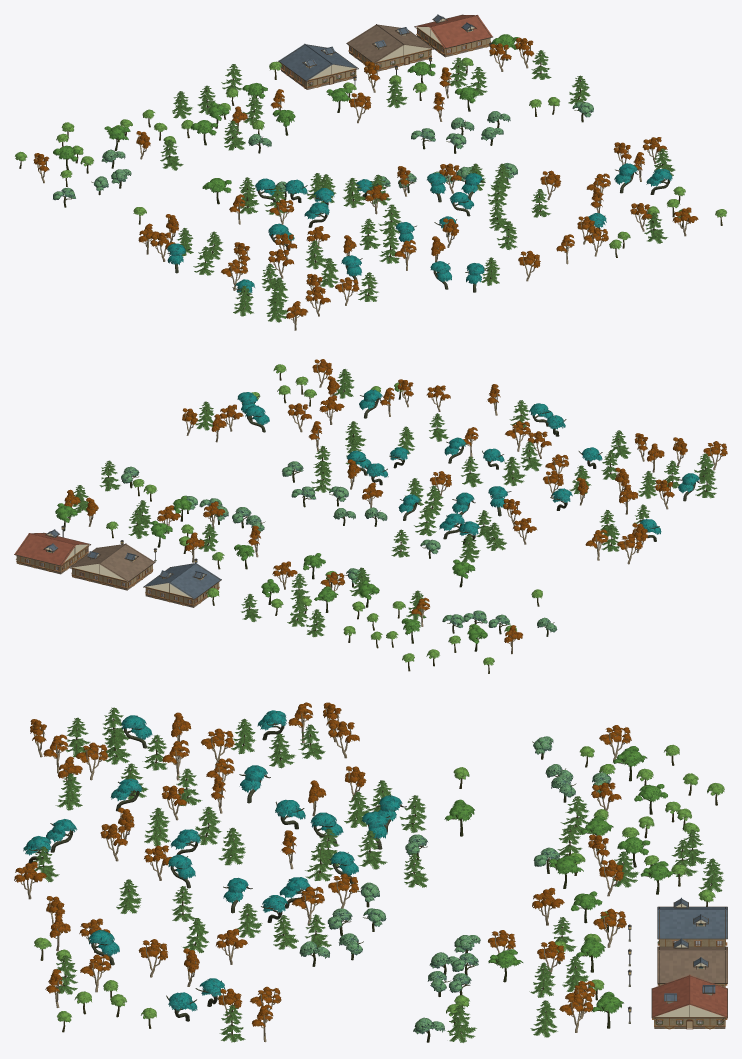
The model's file is overworld-2-3.gltf.
3 renders of one model, top to bottom at view 1: azimuth 30°, elevation 25°; view 2: azimuth 150°, elevation 25°; view 3: azimuth 270°, elevation 25°, orthographic. The views are drawn at different scales.
Visible parts, largest first — view 1: 9f58622c33bae6375dda0f84f9a1bbd98ec2356fca3205c9e7456ff6db6d, d0e8b58a95da56bf506fd1d103bfd46dcefb158ad17bf073ead6dc8babd0, 8f9bf8cc47873a37895237d7941fd1b11b0513894d9e9bd02cc66e6d6ce8; view 2: 9f58622c33bae6375dda0f84f9a1bbd98ec2356fca3205c9e7456ff6db6d, d0e8b58a95da56bf506fd1d103bfd46dcefb158ad17bf073ead6dc8babd0, 8f9bf8cc47873a37895237d7941fd1b11b0513894d9e9bd02cc66e6d6ce8; view 3: 7e2e11a73c6c1f6b77c7c18c44a87655900818e94c168e7a92bb0a48cc87 (×9), 883bf022a4c95c0b0a24ce14e7511dc7b18eb62759134961097aa30193af (×7), 8f9bf8cc47873a37895237d7941fd1b11b0513894d9e9bd02cc66e6d6ce8, 9f58622c33bae6375dda0f84f9a1bbd98ec2356fca3205c9e7456ff6db6d, d0e8b58a95da56bf506fd1d103bfd46dcefb158ad17bf073ead6dc8babd0, 133dae8ce562dbc4cbf0d0d2cb7dc4cb2baafed83b6c58ebd4446a365708 (×3).
Part boxes in pixels (box(x1,y1,x2,y2)): 9f58622c33bae6375dda0f84f9a1bbd98ec2356fca3205c9e7456ff6db6d: box(346, 24, 434, 68); d0e8b58a95da56bf506fd1d103bfd46dcefb158ad17bf073ead6dc8babd0: box(278, 43, 358, 86); 8f9bf8cc47873a37895237d7941fd1b11b0513894d9e9bd02cc66e6d6ce8: box(414, 14, 492, 48); 9f58622c33bae6375dda0f84f9a1bbd98ec2356fca3205c9e7456ff6db6d: box(69, 543, 155, 582); d0e8b58a95da56bf506fd1d103bfd46dcefb158ad17bf073ead6dc8babd0: box(143, 562, 221, 599); 8f9bf8cc47873a37895237d7941fd1b11b0513894d9e9bd02cc66e6d6ce8: box(14, 529, 90, 566); 7e2e11a73c6c1f6b77c7c18c44a87655900818e94c168e7a92bb0a48cc87 (×9): box(55, 773, 557, 1042); 883bf022a4c95c0b0a24ce14e7511dc7b18eb62759134961097aa30193af (×7): box(46, 715, 389, 965); 8f9bf8cc47873a37895237d7941fd1b11b0513894d9e9bd02cc66e6d6ce8: box(651, 974, 727, 1028); 9f58622c33bae6375dda0f84f9a1bbd98ec2356fca3205c9e7456ff6db6d: box(657, 938, 727, 985); d0e8b58a95da56bf506fd1d103bfd46dcefb158ad17bf073ead6dc8babd0: box(657, 897, 727, 944); 133dae8ce562dbc4cbf0d0d2cb7dc4cb2baafed83b6c58ebd4446a365708 (×3): box(201, 728, 626, 1032).
Bounding box in the file's own units: 134 × 12.95 × 131.
Materials: 69 (49 with a texture image).
